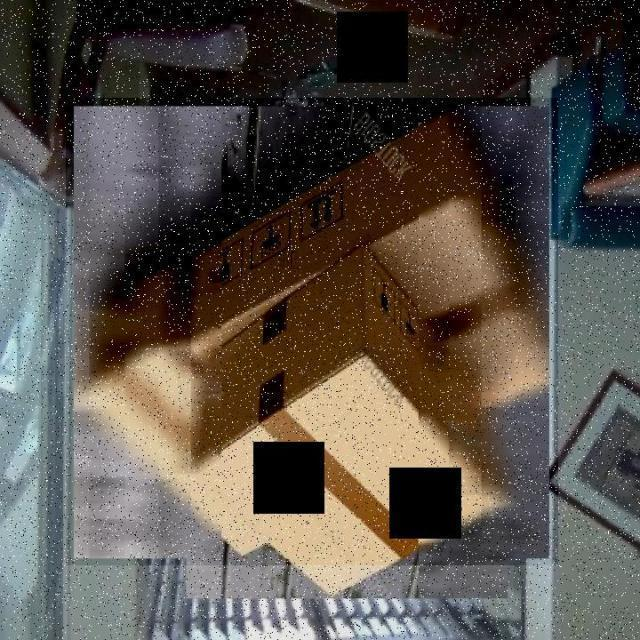box: (66, 98, 559, 566), (181, 235, 514, 602)
